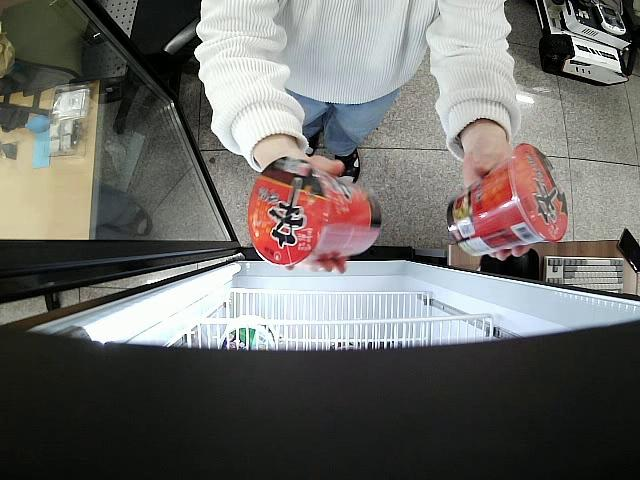00_hand: (260, 141, 347, 272), (461, 139, 534, 261)
02_shinRamen_S: (247, 154, 381, 265), (446, 144, 569, 257)
